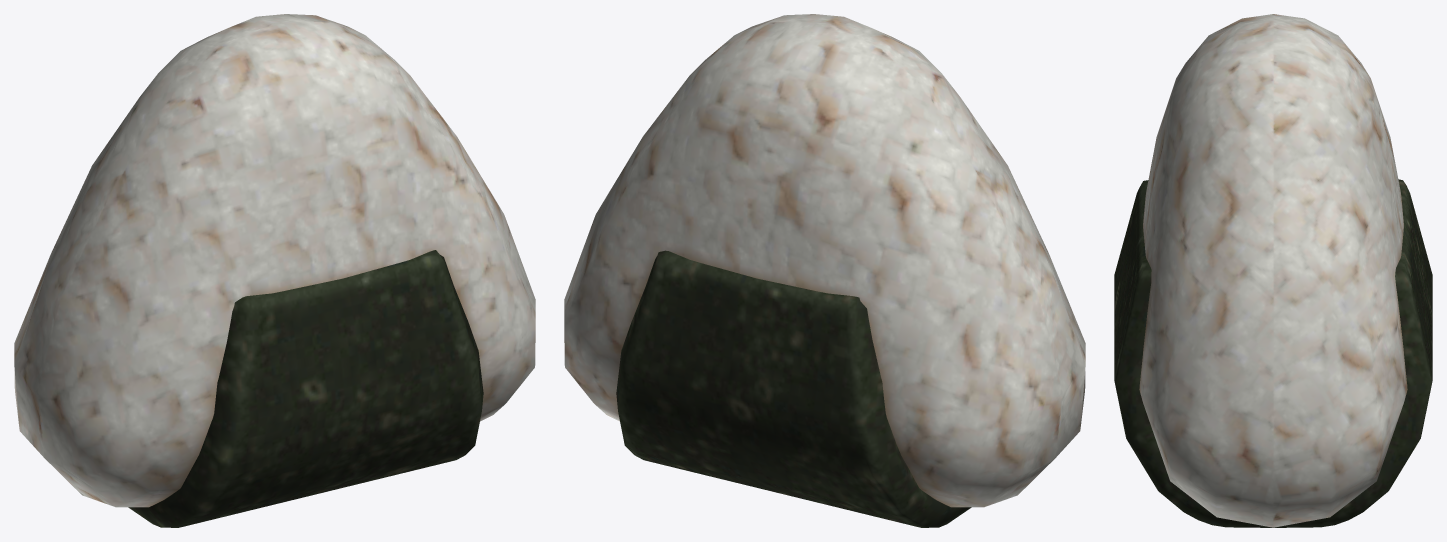
The model's file is 0-onigiri.fbx.
3 renders of one model, left to right at view 1: azimuth 30°, elevation 25°; view 2: azimuth 150°, elevation 25°; view 3: azimuth 270°, elevation 25°, orthographic. The views are drawn at different scales.
Parts seen in each view (by area): view 1: 0-onigiri; view 2: 0-onigiri; view 3: 0-onigiri.
Boxes of the visible parts, x1,y1,x2,y2 form: 0-onigiri: (14,14,535,527); 0-onigiri: (564,14,1085,527); 0-onigiri: (1114,14,1432,527).
Size of the model in its own units: 99.38 by 89.61 by 59.91.
